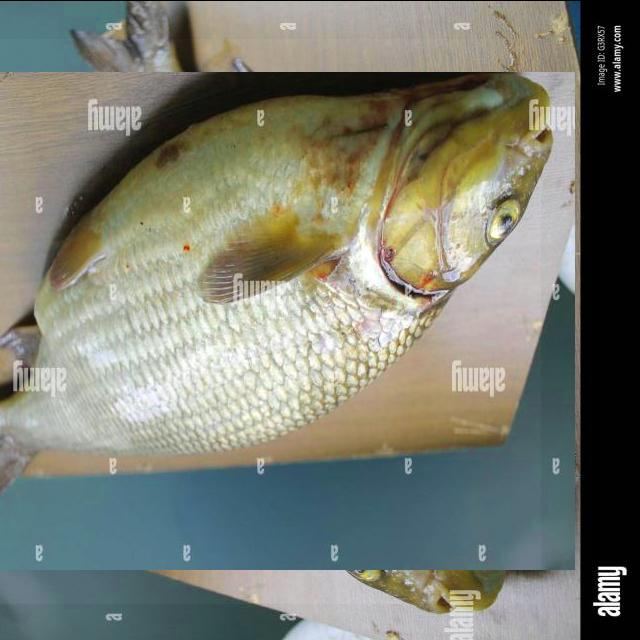EUS Disease: (0, 38, 541, 603), (172, 218, 538, 583)
